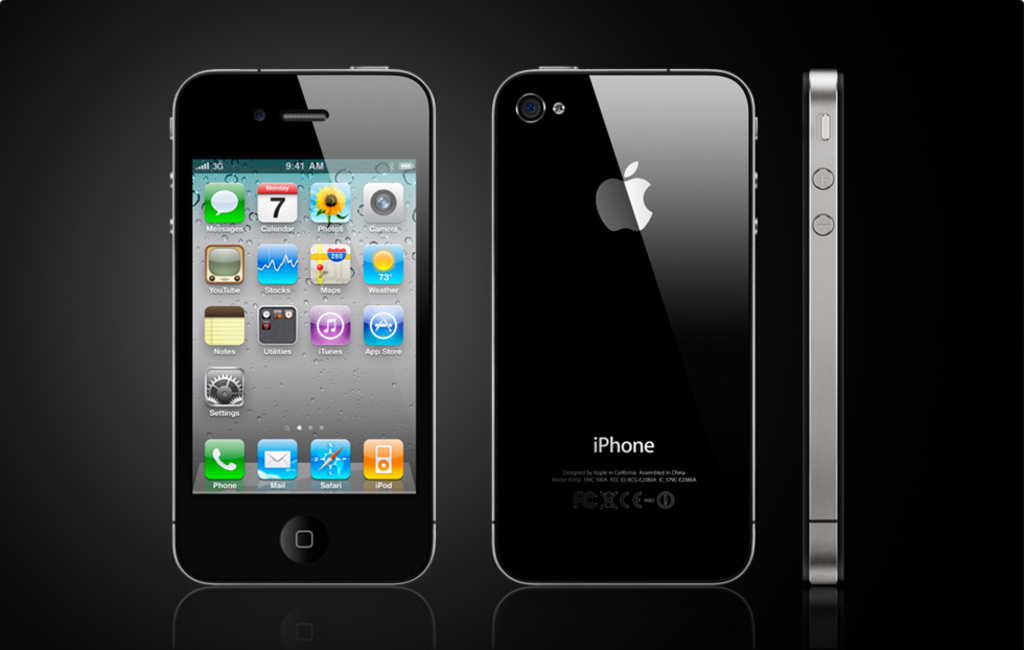mobile phone: (486, 62, 757, 590), (172, 59, 441, 579), (804, 66, 847, 585)
